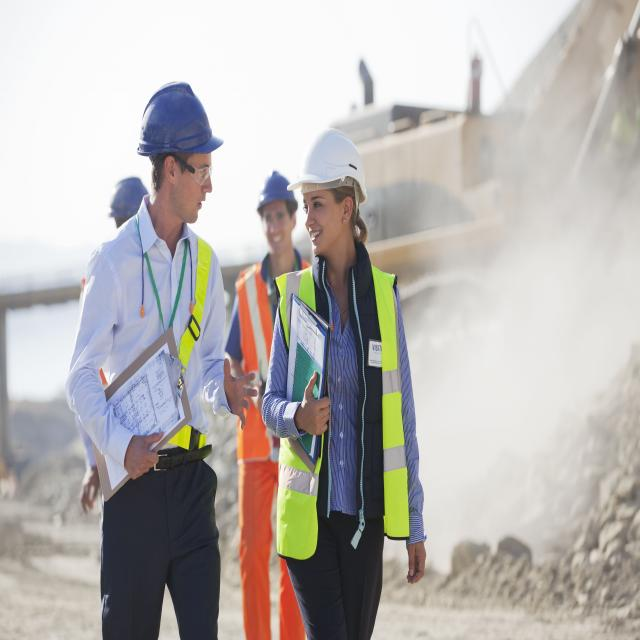Reflective-Jacket: (274, 262, 417, 554), (232, 252, 304, 473)
Safety-Helmet: (136, 76, 225, 162), (290, 120, 371, 198), (101, 175, 164, 217), (251, 164, 299, 214)
